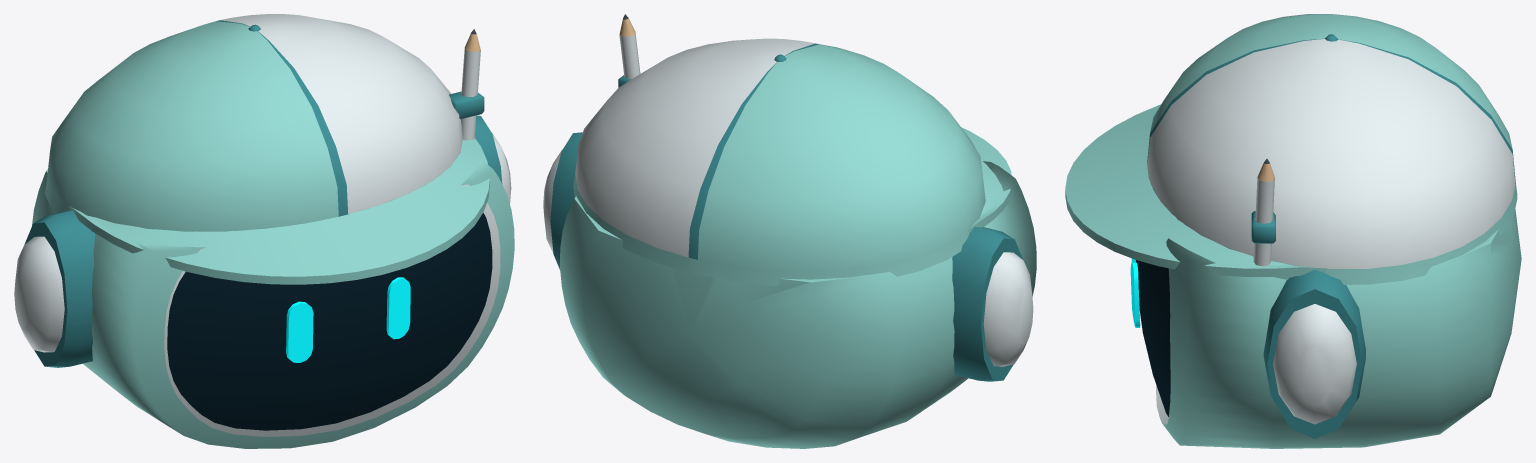
Rendered from copilot_analyst_v01.glb.
3 renders of one model, left to right at view 1: azimuth 30°, elevation 25°; view 2: azimuth 150°, elevation 25°; view 3: azimuth 270°, elevation 25°, orthographic. The views are drawn at different scales.
Visible parts, largest first — view 1: analyst_model; view 2: analyst_model; view 3: analyst_model.
Part boxes in pixels (x1,y1,x2,y2): analyst_model: (14,14,514,448); analyst_model: (543,14,1036,448); analyst_model: (1065,14,1521,448).
Size of the model in its own units: 2.82 by 2.02 by 2.23.
Materials: 2 (2 with a texture image).
